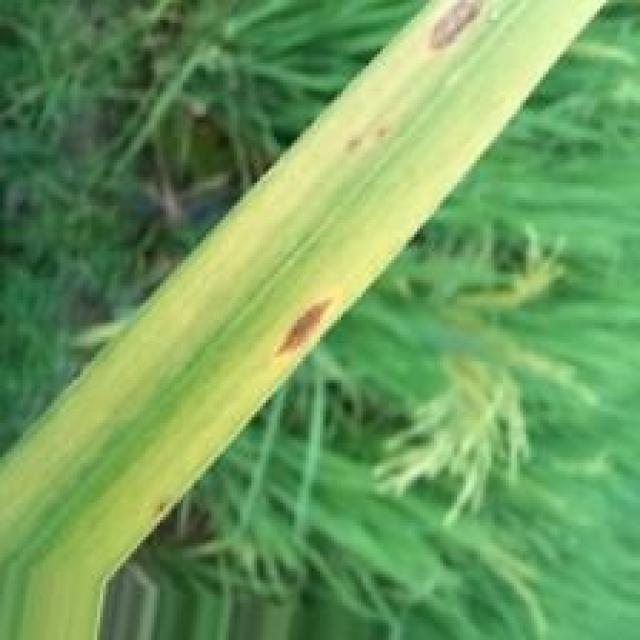Brown_Spot: (277, 303, 332, 357)
